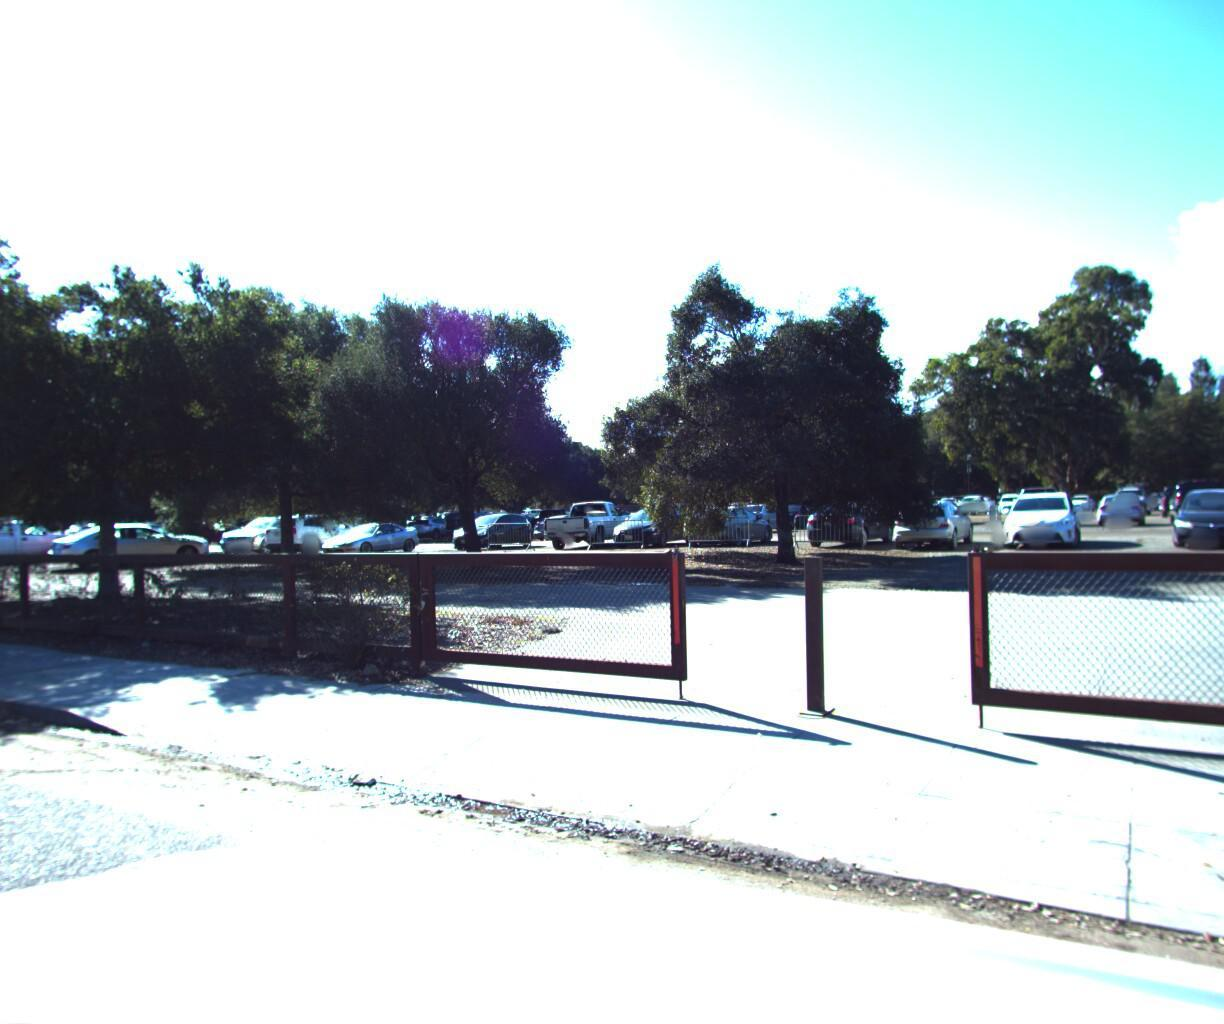car: (43, 516, 213, 570), (0, 508, 90, 564), (0, 514, 29, 565)
